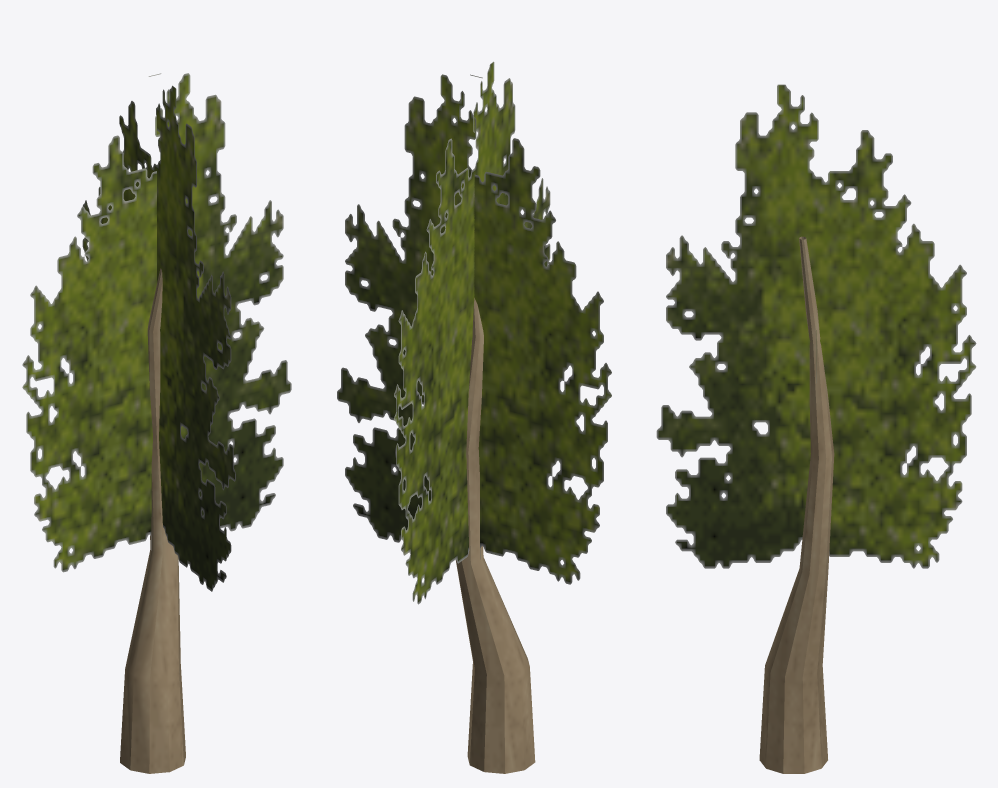
File: Street_Tree.fbx
3 views of the same model, side by side, from view 1: azimuth 30°, elevation 25°; view 2: azimuth 150°, elevation 25°; view 3: azimuth 270°, elevation 25° (orthographic). The views are drawn at different scales.
Visible parts, largest first — view 1: Plane; view 2: Plane; view 3: Plane.
Part boxes in pixels (x1=…): Plane: x1=22, y1=73, x2=291, y2=773; Plane: x1=337, y1=61, x2=611, y2=773; Plane: x1=656, y1=84, x2=976, y2=773.
Size of the model in its own units: 232 by 522 by 232.
